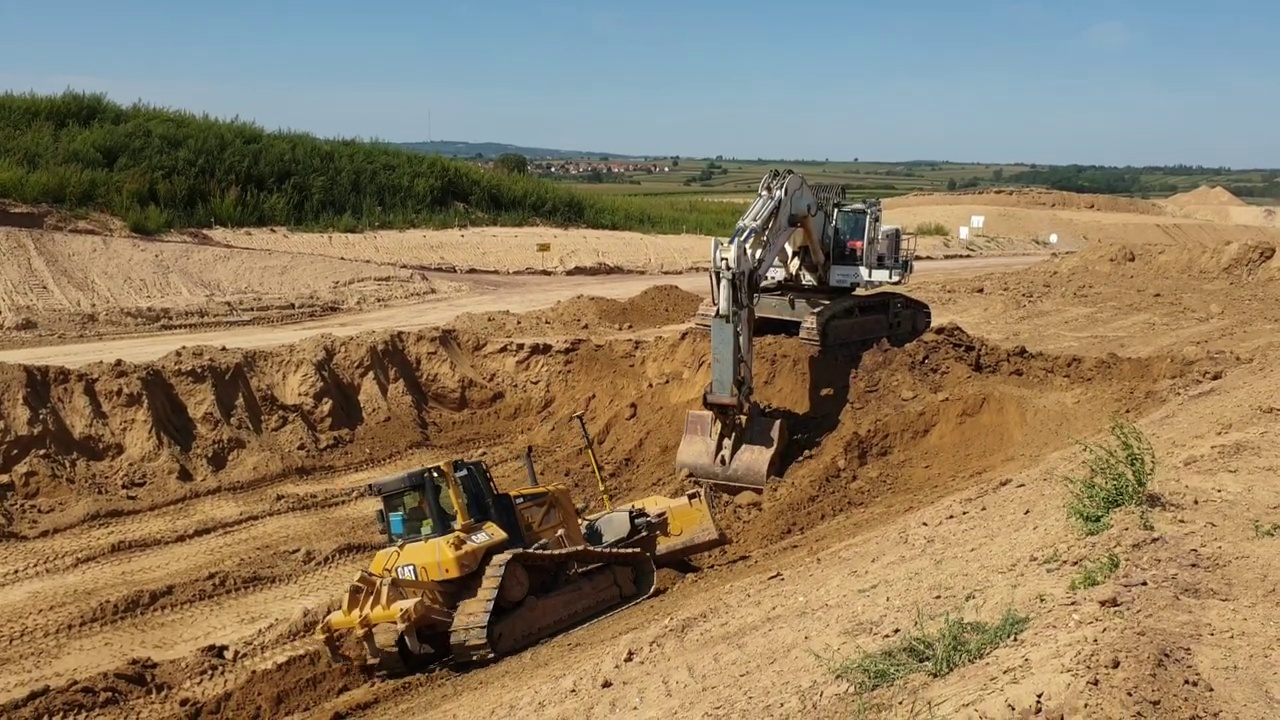bulldozer: (314, 405, 733, 679)
excavator: (670, 165, 936, 498)
